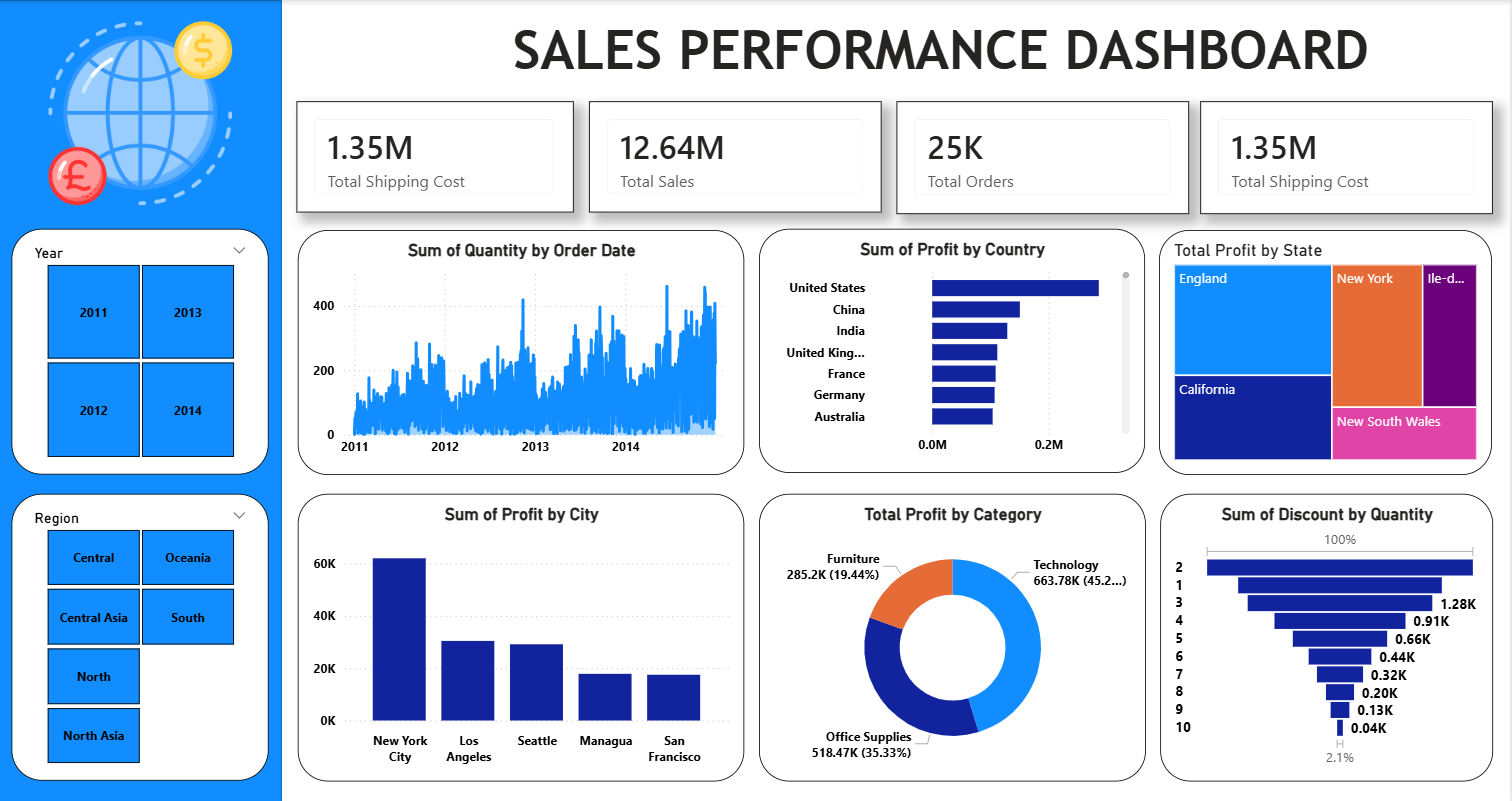

Layout of this report page (visuals, bound fields, positions):
{"tool":"powerbi","page":{"name":"Overview","canvas":[1500,800],"ordinal":0},"visuals":[{"type":"shape","box":[0,0,280.7,799.9],"z":0},{"type":"cardVisual","fields":{"Data":["Measures (2).Total Shipping Cost"]},"box":[295.7,100.6,274.8,110.5],"z":1000},{"type":"cardVisual","fields":{"Data":["Measures (2).Total Sales"]},"box":[585.7,100.6,290,110.5],"z":2000},{"type":"cardVisual","fields":{"Data":["Measures (2).Total Orders"]},"box":[890.9,100.6,290,111.9],"z":3000},{"type":"cardVisual","fields":{"Data":["Measures (2).Total Shipping Cost"]},"box":[1192,100.6,290,111.9],"z":4000},{"type":"areaChart","fields":{"Category":["Orders.Order Date"],"Y":["Sum(Orders.Quantity)"]},"box":[297,227.9,443.3,243.1],"z":5000},{"type":"donutChart","fields":{"Category":["Orders.Category"],"Y":["Measures (2).Total Profit"]},"box":[754.7,489.8,383.9,285.9],"z":6000},{"type":"columnChart","fields":{"Category":["Orders.City"],"Y":["Sum(Orders.Profit)"]},"box":[297,490.3,443.3,285.9],"z":7000},{"type":"treemap","fields":{"Group":["Orders.State"],"Values":["Measures (2).Total Profit"]},"box":[1151.5,227.9,330.1,243.1],"z":8000},{"type":"funnel","fields":{"Category":["Orders.Quantity"],"Y":["Sum(Orders.Discount)"]},"box":[1152.4,489.8,330.1,285.9],"z":9000},{"type":"slicer","fields":{"Values":["Orders.Region"]},"box":[12.3,490.6,254.8,284.8],"z":10000},{"type":"textbox","box":[505.5,13.6,862.6,77.7],"z":11000},{"type":"barChart","fields":{"Y":["Sum(Orders.Profit)"],"Category":["Orders.Country"]},"box":[754.9,227.6,382.9,242.6],"z":12000},{"type":"image","box":[20.4,13.6,241.2,197.6],"z":13000},{"type":"slicer","fields":{"Values":["DateTable.Year"]},"box":[12.3,227.6,254.8,243.9],"z":13001}]}

Visuals, with their boxes in screenshot pixels (x1, y1, x2, y2), scaled from the page's 1500x800 canvas onto the 1512x801 screenshot:
shape: Rect(0, 0, 283, 800)
cardVisual - Measures (2).Total Shipping Cost: Rect(298, 101, 575, 211)
cardVisual - Measures (2).Total Sales: Rect(590, 101, 883, 211)
cardVisual - Measures (2).Total Orders: Rect(898, 101, 1190, 213)
cardVisual - Measures (2).Total Shipping Cost: Rect(1202, 101, 1494, 213)
areaChart - Orders.Order Date x Sum(Orders.Quantity): Rect(299, 228, 746, 472)
donutChart - Orders.Category x Measures (2).Total Profit: Rect(761, 490, 1148, 777)
columnChart - Orders.City x Sum(Orders.Profit): Rect(299, 491, 746, 777)
treemap - Orders.State x Measures (2).Total Profit: Rect(1161, 228, 1493, 472)
funnel - Orders.Quantity x Sum(Orders.Discount): Rect(1162, 490, 1494, 777)
slicer - Orders.Region: Rect(12, 491, 269, 776)
textbox: Rect(510, 14, 1379, 91)
barChart - Sum(Orders.Profit) x Orders.Country: Rect(761, 228, 1147, 471)
image: Rect(21, 14, 264, 211)
slicer - DateTable.Year: Rect(12, 228, 269, 472)
